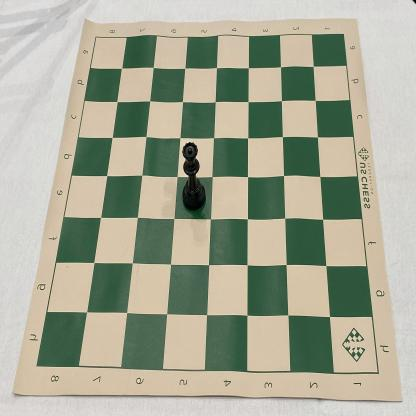black-queen: (182, 142, 206, 212)
